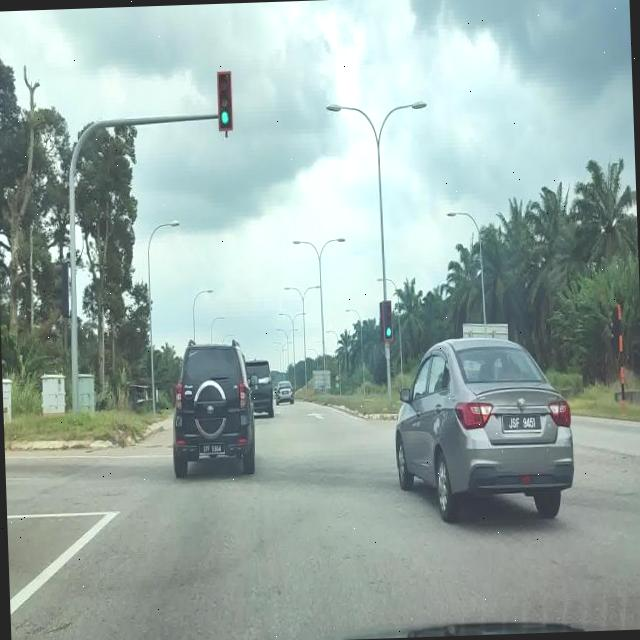green_light: (216, 70, 233, 130), (382, 300, 392, 339)
